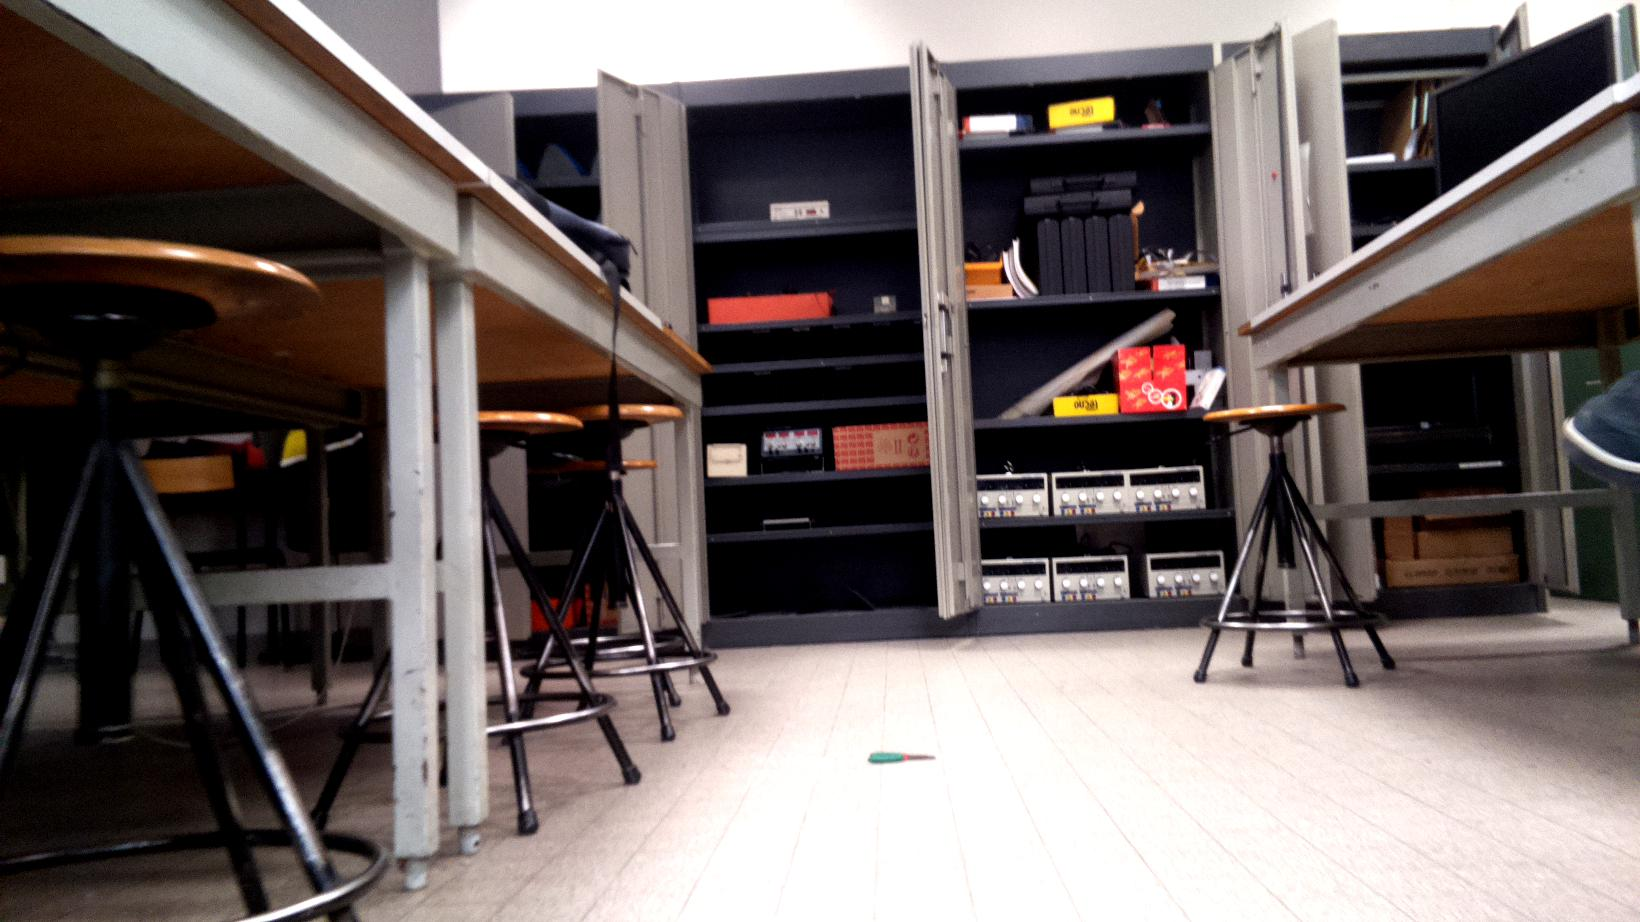small: (866, 750, 938, 767)
